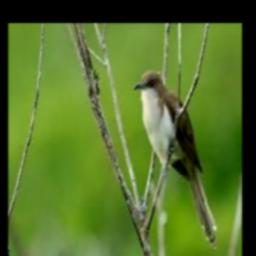Cuckoo: (134, 71, 218, 250)
